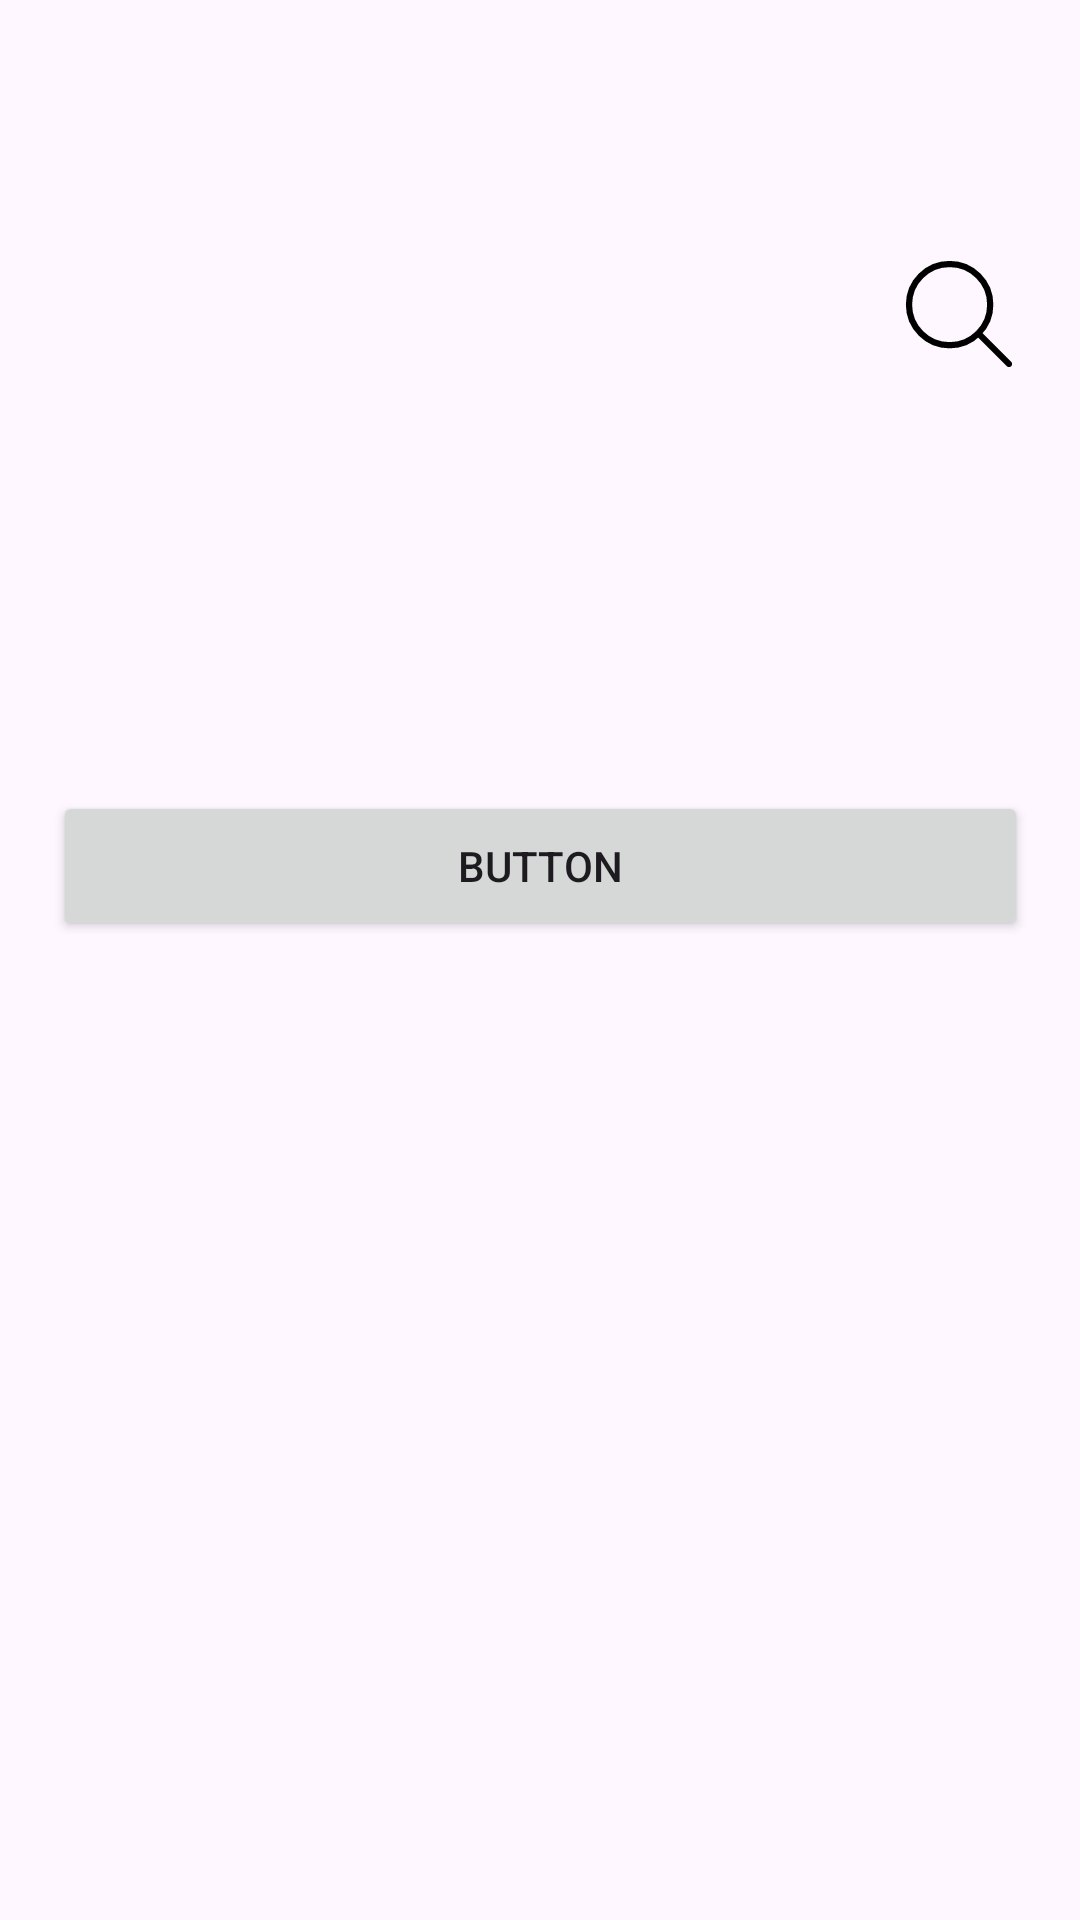

Named icons in this screenshot (1080px x 1920px) and their bounding boxes, [x1, y1, x2, y2]:
search: [906, 261, 1012, 367]
